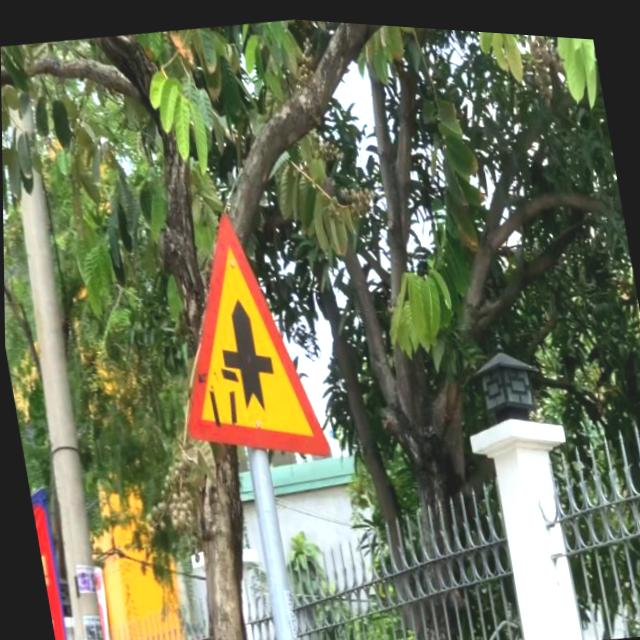Giao nhau voi duong khong uu tien: (142, 186, 339, 490)
